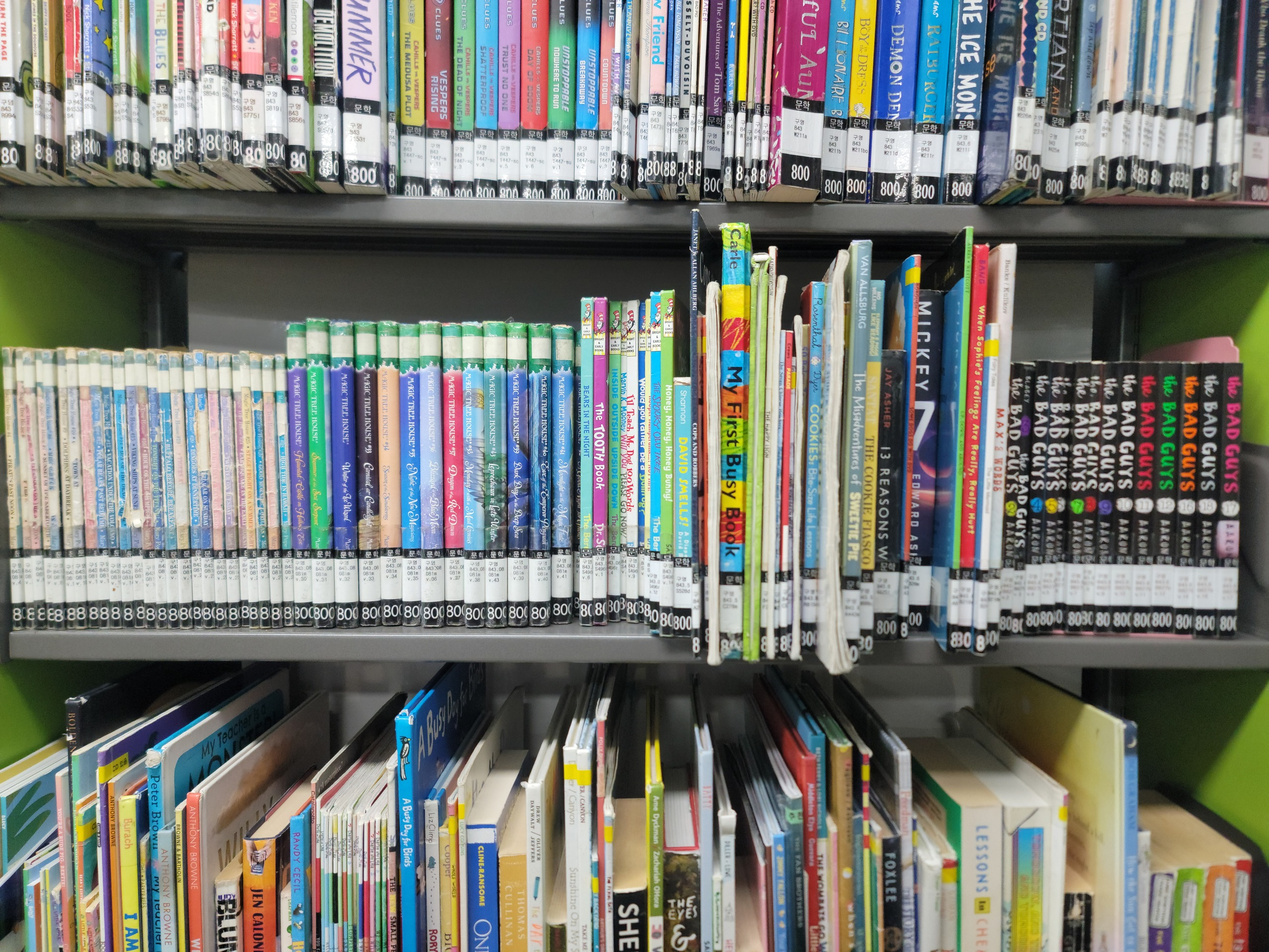book-spine: (837, 240, 870, 656), (717, 224, 748, 659), (983, 242, 1016, 650), (956, 243, 988, 653), (908, 293, 944, 632), (946, 228, 974, 653), (855, 276, 884, 653), (1038, 358, 1074, 635), (872, 350, 906, 642), (304, 317, 334, 628), (328, 319, 358, 629), (973, 325, 1001, 657), (897, 250, 920, 639), (800, 282, 824, 651), (1149, 363, 1181, 635), (758, 266, 780, 658), (285, 323, 313, 628), (353, 322, 380, 630), (1022, 360, 1052, 635), (1171, 362, 1201, 637), (35, 348, 64, 629), (1129, 364, 1159, 635), (418, 322, 444, 630), (1193, 363, 1222, 637), (1109, 360, 1138, 633), (1215, 364, 1244, 636), (461, 322, 486, 631), (484, 321, 508, 631), (1063, 360, 1090, 635), (377, 321, 401, 630), (788, 317, 810, 654), (528, 324, 552, 631), (997, 358, 1023, 639), (1093, 363, 1120, 633), (21, 350, 47, 630), (1008, 360, 1034, 636), (0, 345, 25, 631), (399, 321, 422, 630), (756, 259, 774, 652), (75, 348, 100, 627), (1078, 360, 1103, 636), (507, 320, 529, 631), (64, 347, 88, 630), (272, 346, 296, 628), (11, 348, 35, 629), (53, 350, 77, 630), (87, 350, 111, 629), (168, 352, 192, 630), (156, 352, 180, 628), (767, 291, 785, 659), (216, 354, 240, 629), (750, 255, 766, 660), (443, 323, 464, 631), (552, 325, 573, 631), (110, 350, 133, 629), (122, 349, 145, 628), (181, 352, 204, 631), (204, 351, 227, 630), (99, 351, 122, 629), (192, 351, 215, 629), (145, 351, 168, 626), (260, 356, 283, 628), (135, 350, 157, 630), (742, 260, 758, 643), (239, 350, 260, 631), (249, 351, 270, 630), (230, 351, 250, 628), (770, 328, 787, 648), (777, 332, 793, 658), (705, 285, 719, 657), (622, 299, 637, 632), (592, 300, 607, 632), (661, 291, 674, 638), (608, 299, 621, 632), (675, 371, 691, 638), (580, 298, 592, 632), (650, 290, 661, 634), (690, 211, 697, 643), (638, 301, 647, 632), (575, 319, 581, 632)
